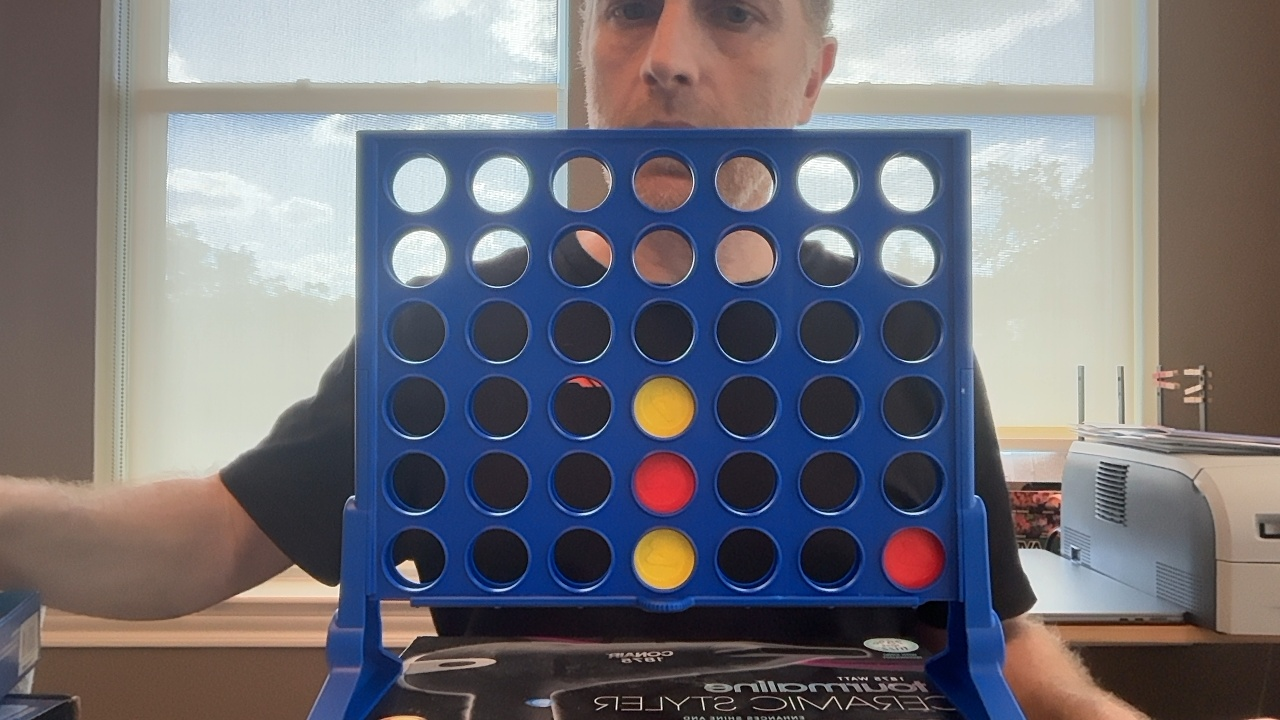red piece: (883, 527, 945, 590), (634, 452, 695, 514)
yellow piece: (633, 528, 695, 590), (633, 377, 695, 438)
